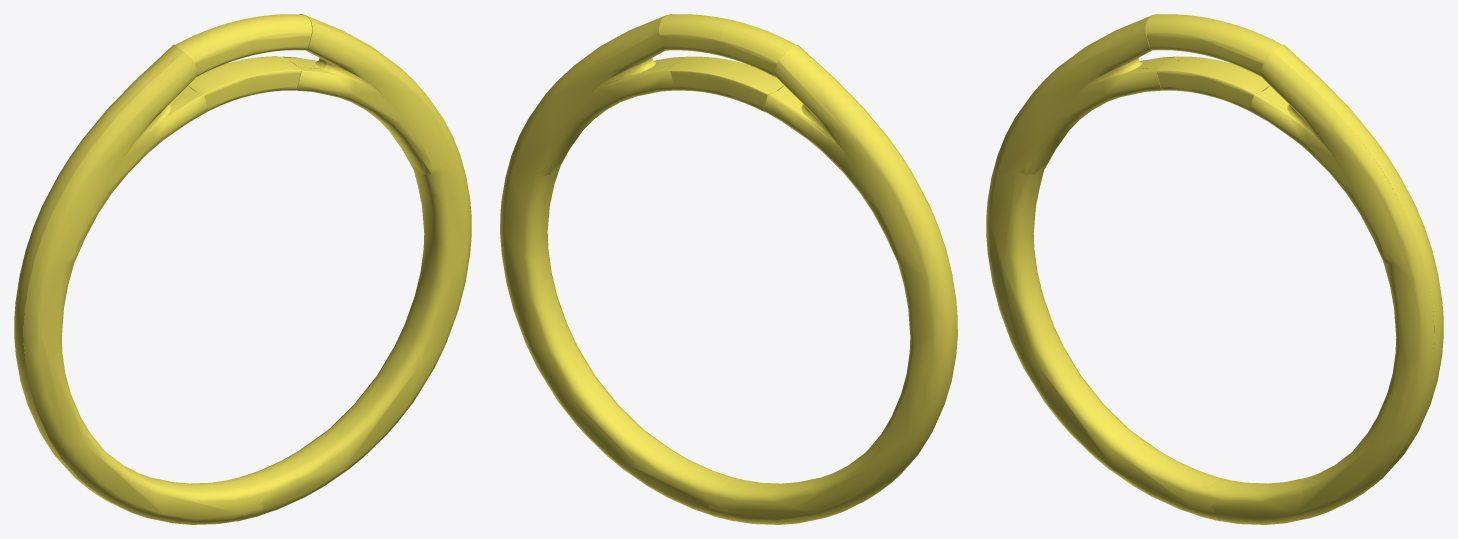
File: shank_005_00_56.glb
3 renders of one model, left to right at view 1: azimuth 30°, elevation 25°; view 2: azimuth 150°, elevation 25°; view 3: azimuth 330°, elevation 25°, orthographic.
Parts seen in each view (by area): view 1: Metal__1; view 2: Metal__1; view 3: Metal__1.
Part boxes in pixels (box(x1,y1,x2,y2)): Metal__1: box(14, 14, 471, 524); Metal__1: box(500, 14, 957, 524); Metal__1: box(986, 14, 1443, 524).
Size of the model in its own units: 2.15 by 2.25 by 0.1709.
